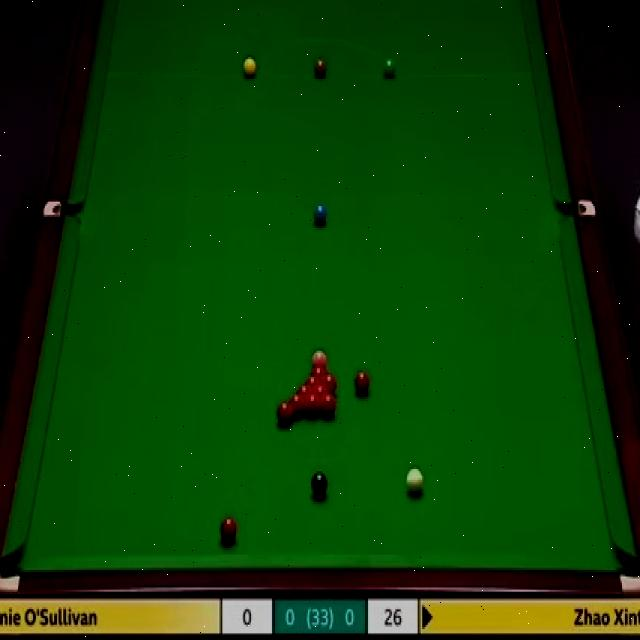black-ball: (309, 471, 330, 496)
blue-ball: (312, 205, 329, 227)
brown-ball: (313, 58, 326, 78)
green-ball: (381, 55, 396, 79)
pink-ball: (310, 349, 328, 370)
red-ball: (220, 516, 238, 546), (353, 369, 372, 397), (320, 391, 337, 418), (306, 394, 322, 420), (289, 393, 305, 418), (278, 403, 294, 427), (320, 372, 337, 394), (310, 367, 328, 382), (313, 383, 328, 398), (298, 384, 312, 397)
white-ball: (404, 465, 423, 493)
yellow-ball: (241, 56, 256, 79)
